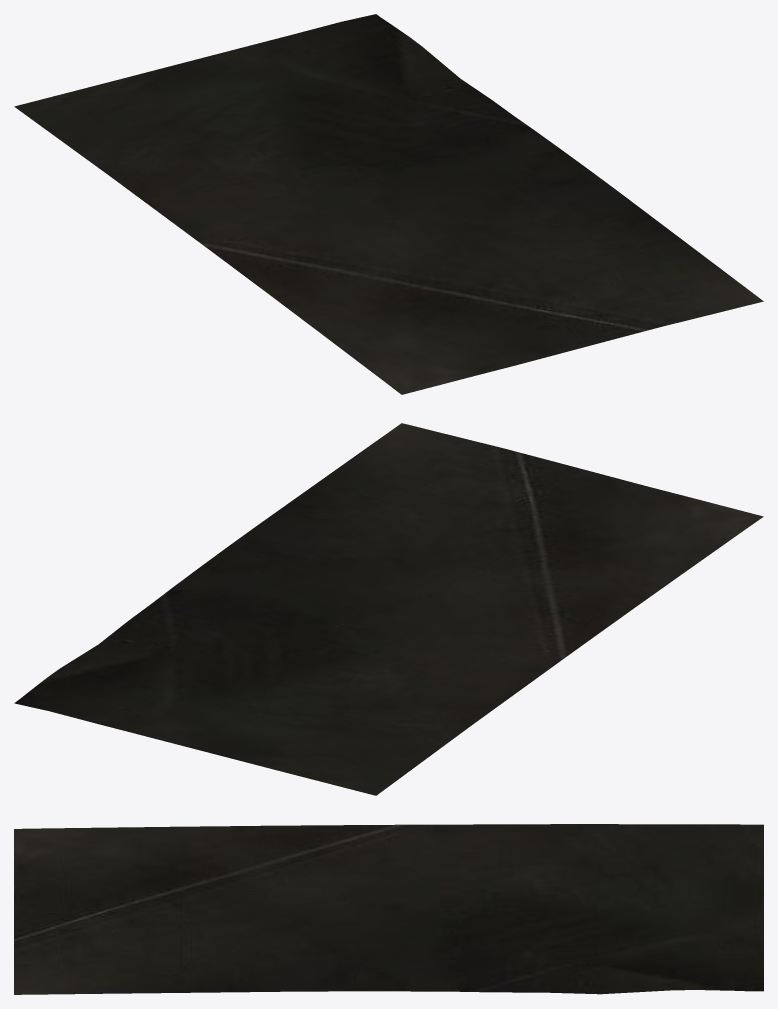
The picture shows the model from 3 angles, top to bottom: view 1: azimuth 30°, elevation 25°; view 2: azimuth 150°, elevation 25°; view 3: azimuth 270°, elevation 25°; orthographic projection. The views are drawn at different scales.
Bounding box in the file's own units: 1.67 × 0.0498 × 3.1.
Materials: 1 (1 with a texture image).
